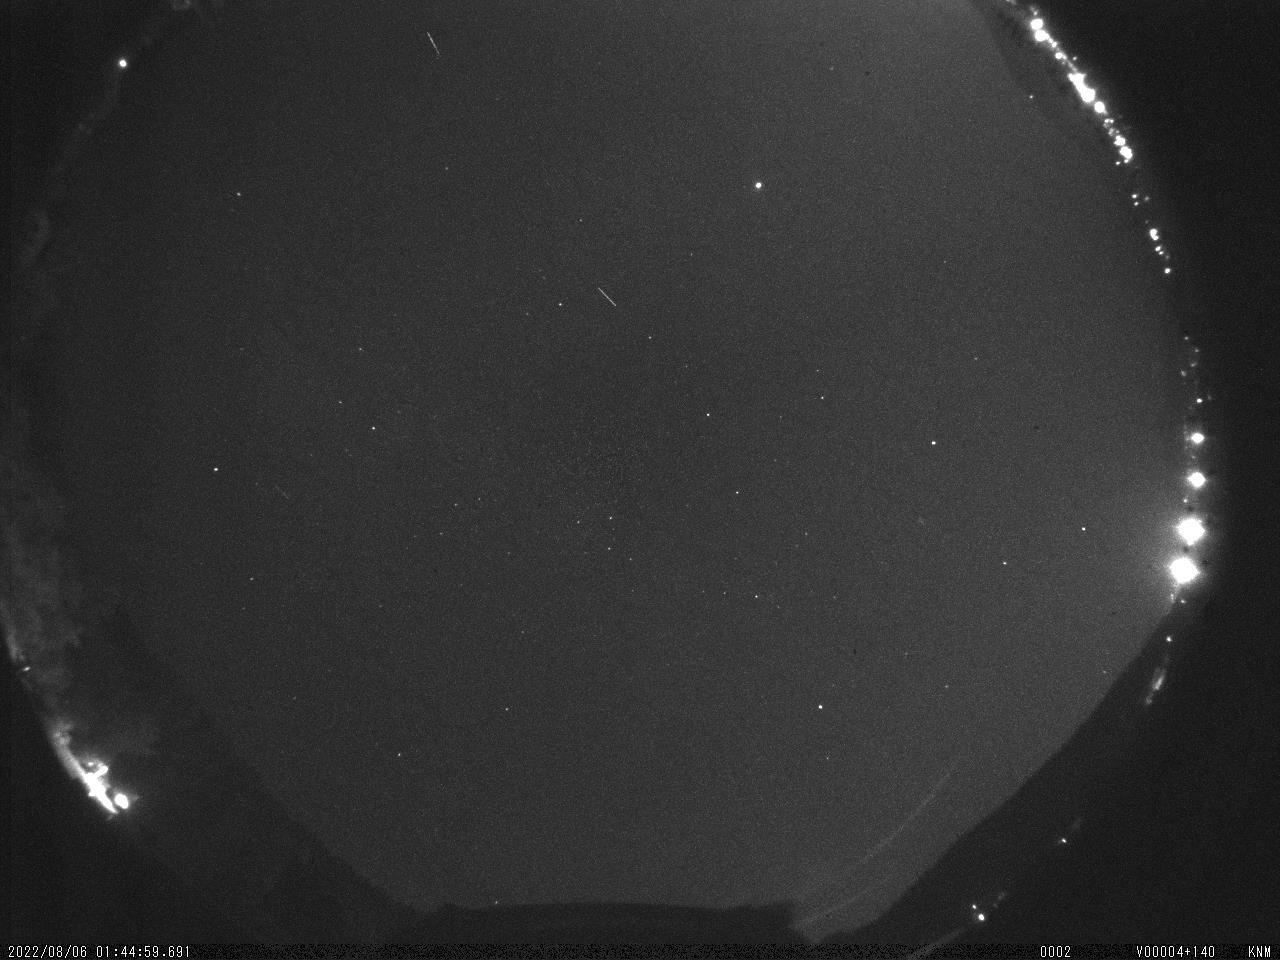Meteor: (420, 23, 447, 67), (592, 281, 624, 315)
